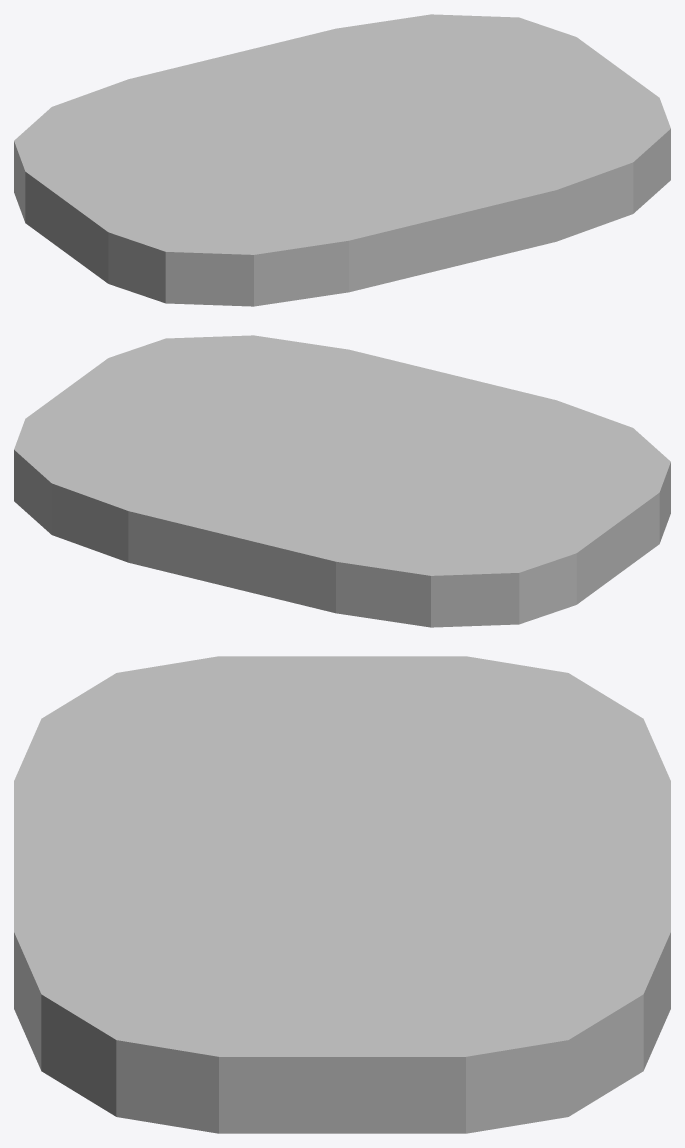
The model's file is Pillow_5.fbx.
3 views of the same model, one above another, from view 1: azimuth 30°, elevation 25°; view 2: azimuth 150°, elevation 25°; view 3: azimuth 270°, elevation 25° (orthographic). The views are drawn at different scales.
Parts seen in each view (by area): view 1: Pillow_5; view 2: Pillow_5; view 3: Pillow_5.
Boxes of the visible parts, <box> form: Pillow_5: <box>14,14,670,306</box>; Pillow_5: <box>14,335,670,627</box>; Pillow_5: <box>14,656,670,1133</box>.
Size of the model in its own units: 0.4207 by 0.0377 by 0.2916.
